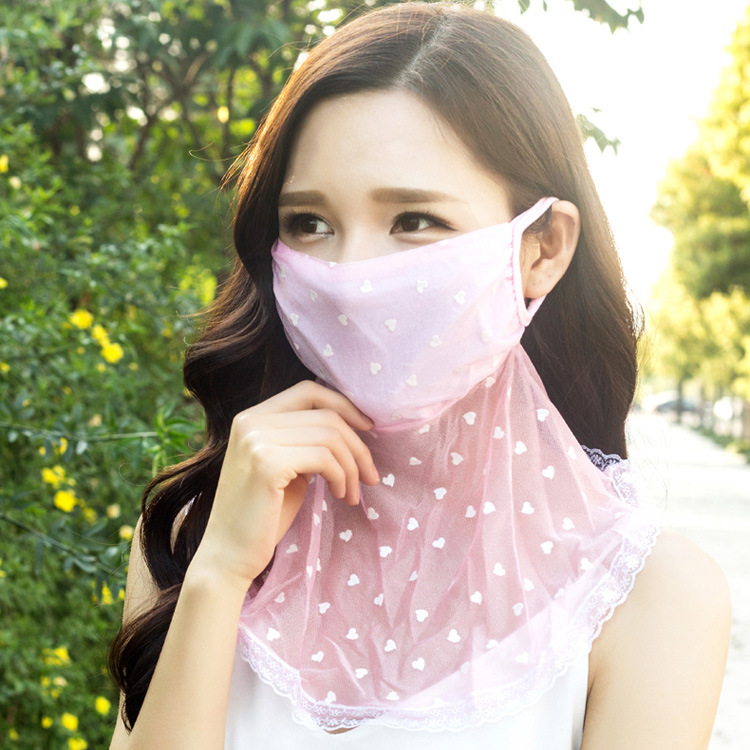face_mask: (273, 90, 517, 418)
